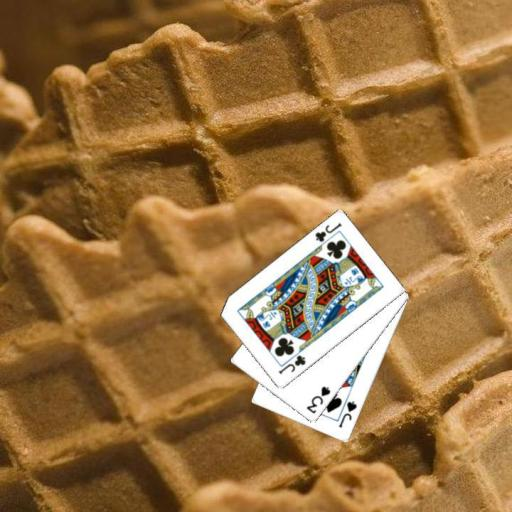3S: (304, 384, 332, 416)
JC: (275, 352, 307, 376), (312, 220, 344, 244)
JS: (336, 398, 359, 430)
